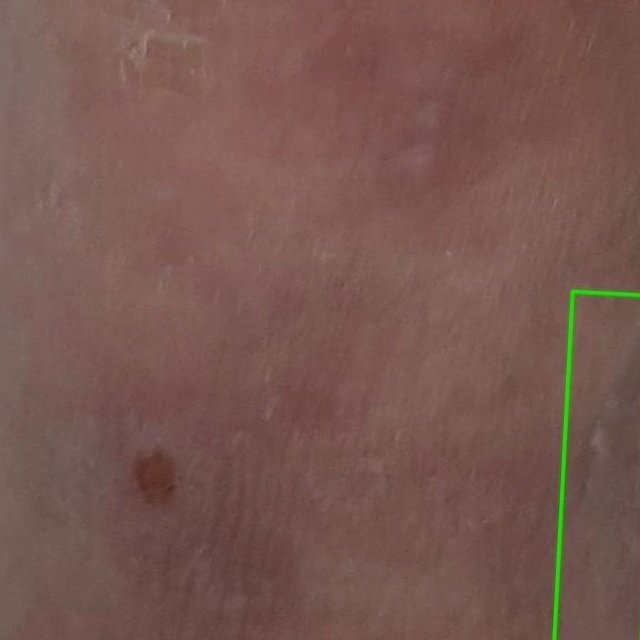Tinea Corporis: (554, 291, 639, 639)
